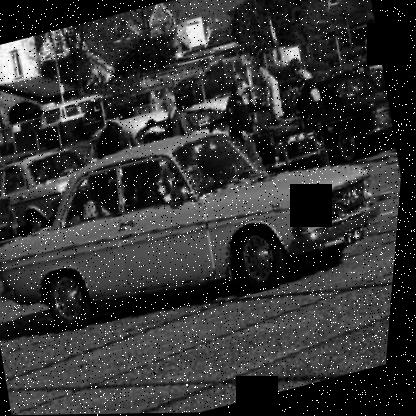not_emergency: (0, 79, 410, 388)
